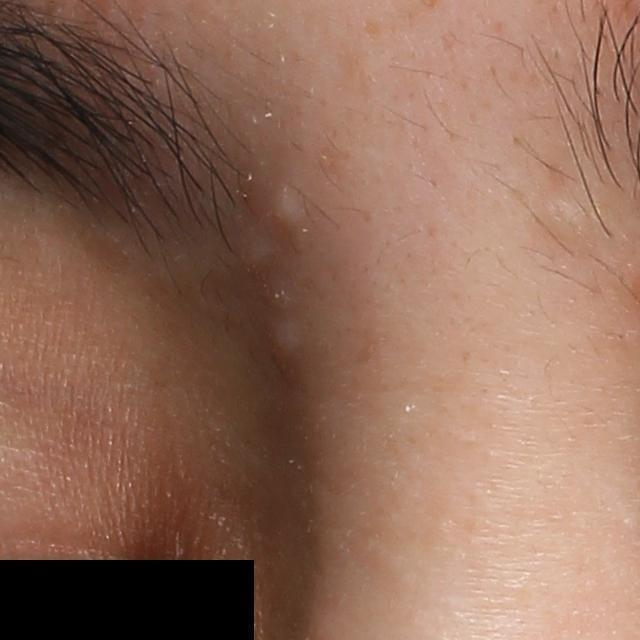comedo: (265, 317, 314, 360), (268, 187, 305, 227)
